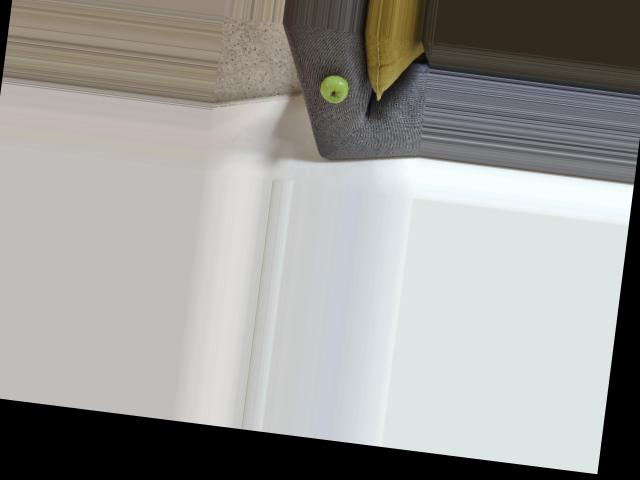apple: (318, 70, 352, 105)
